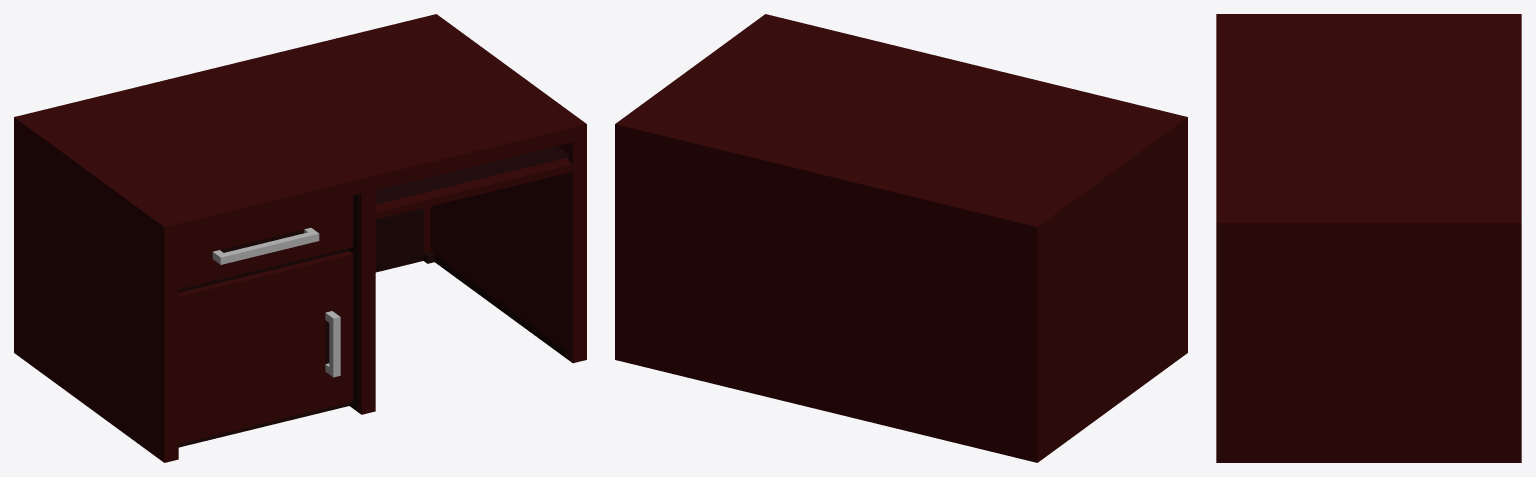
File: desk.obj
3 renders of one model, left to right at view 1: azimuth 30°, elevation 25°; view 2: azimuth 150°, elevation 25°; view 3: azimuth 270°, elevation 25°, orthographic.
Bounding box in the file's own units: 6 × 3.2 × 3.7.
1 material, 1 textured.
